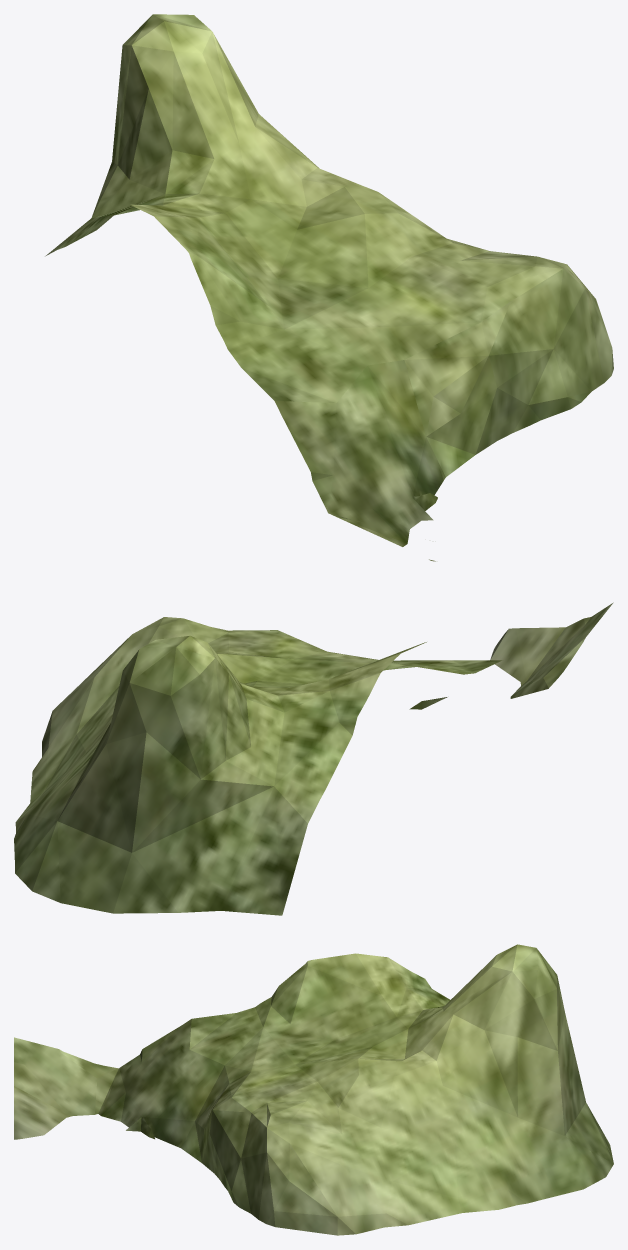
3 views of the same model, one above another, from view 1: azimuth 30°, elevation 25°; view 2: azimuth 150°, elevation 25°; view 3: azimuth 270°, elevation 25° (orthographic). The views are drawn at different scales.
Size of the model in its own units: 1.36 by 0.8634 by 2.44.
1 material, 1 textured.
